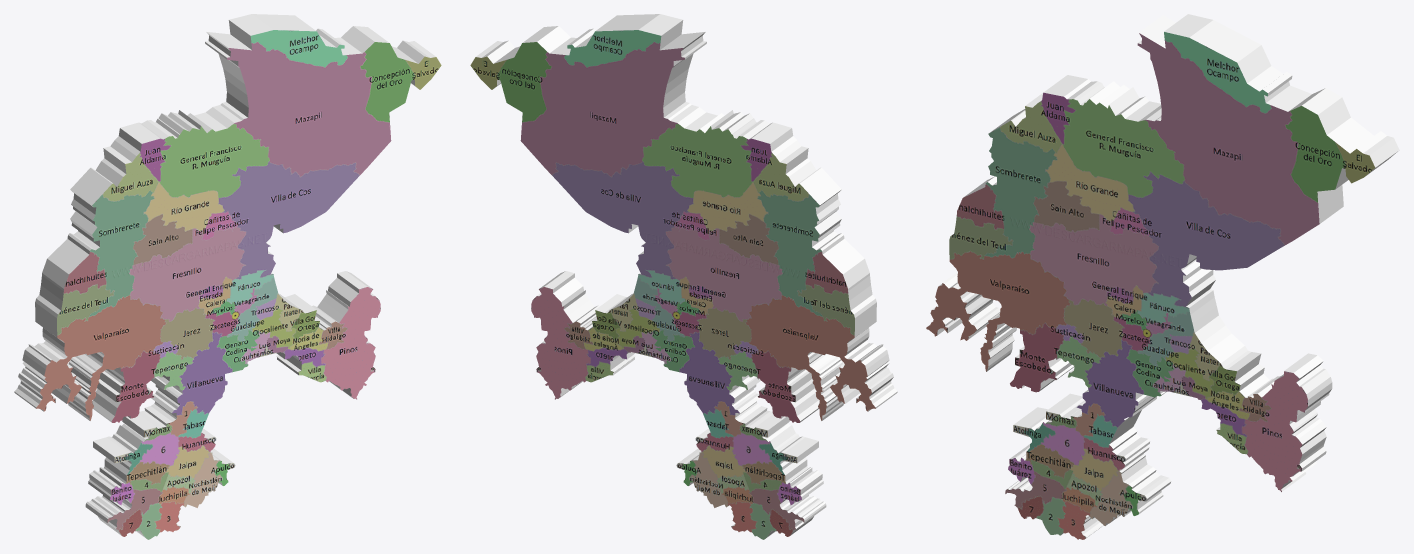
File: zacatecas.glb
3 views of the same model, side by side, from view 1: azimuth 30°, elevation 25°; view 2: azimuth 150°, elevation 25°; view 3: azimuth 330°, elevation 25° (orthographic). The views are drawn at different scales.
Parts seen in each view (by area): view 1: Plano; view 2: Plano; view 3: Plano.
Part boxes in pixels (left/top/right/bottom): Plano: left=14, top=14, right=441, bottom=539; Plano: left=470, top=14, right=897, bottom=539; Plano: left=926, top=14, right=1399, bottom=539.
Bounding box in the file's own units: 0.7703 × 0.8705 × 0.0721.
Materials: 1 (1 with a texture image).
